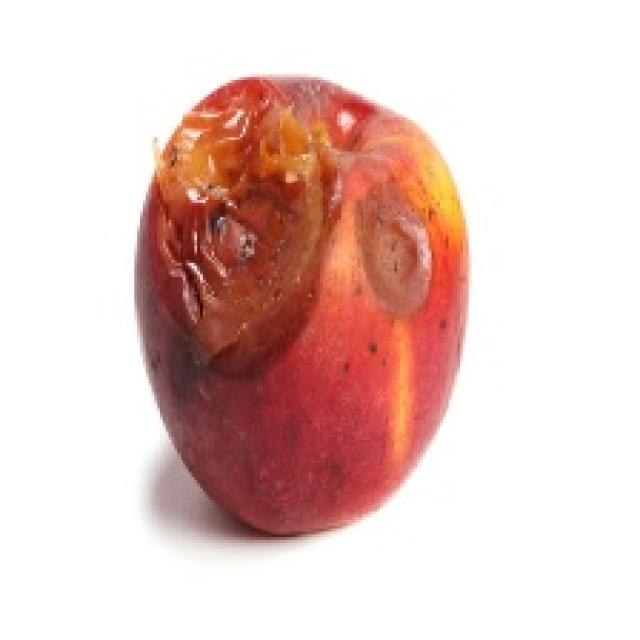rotten_apple: (140, 79, 468, 529)
